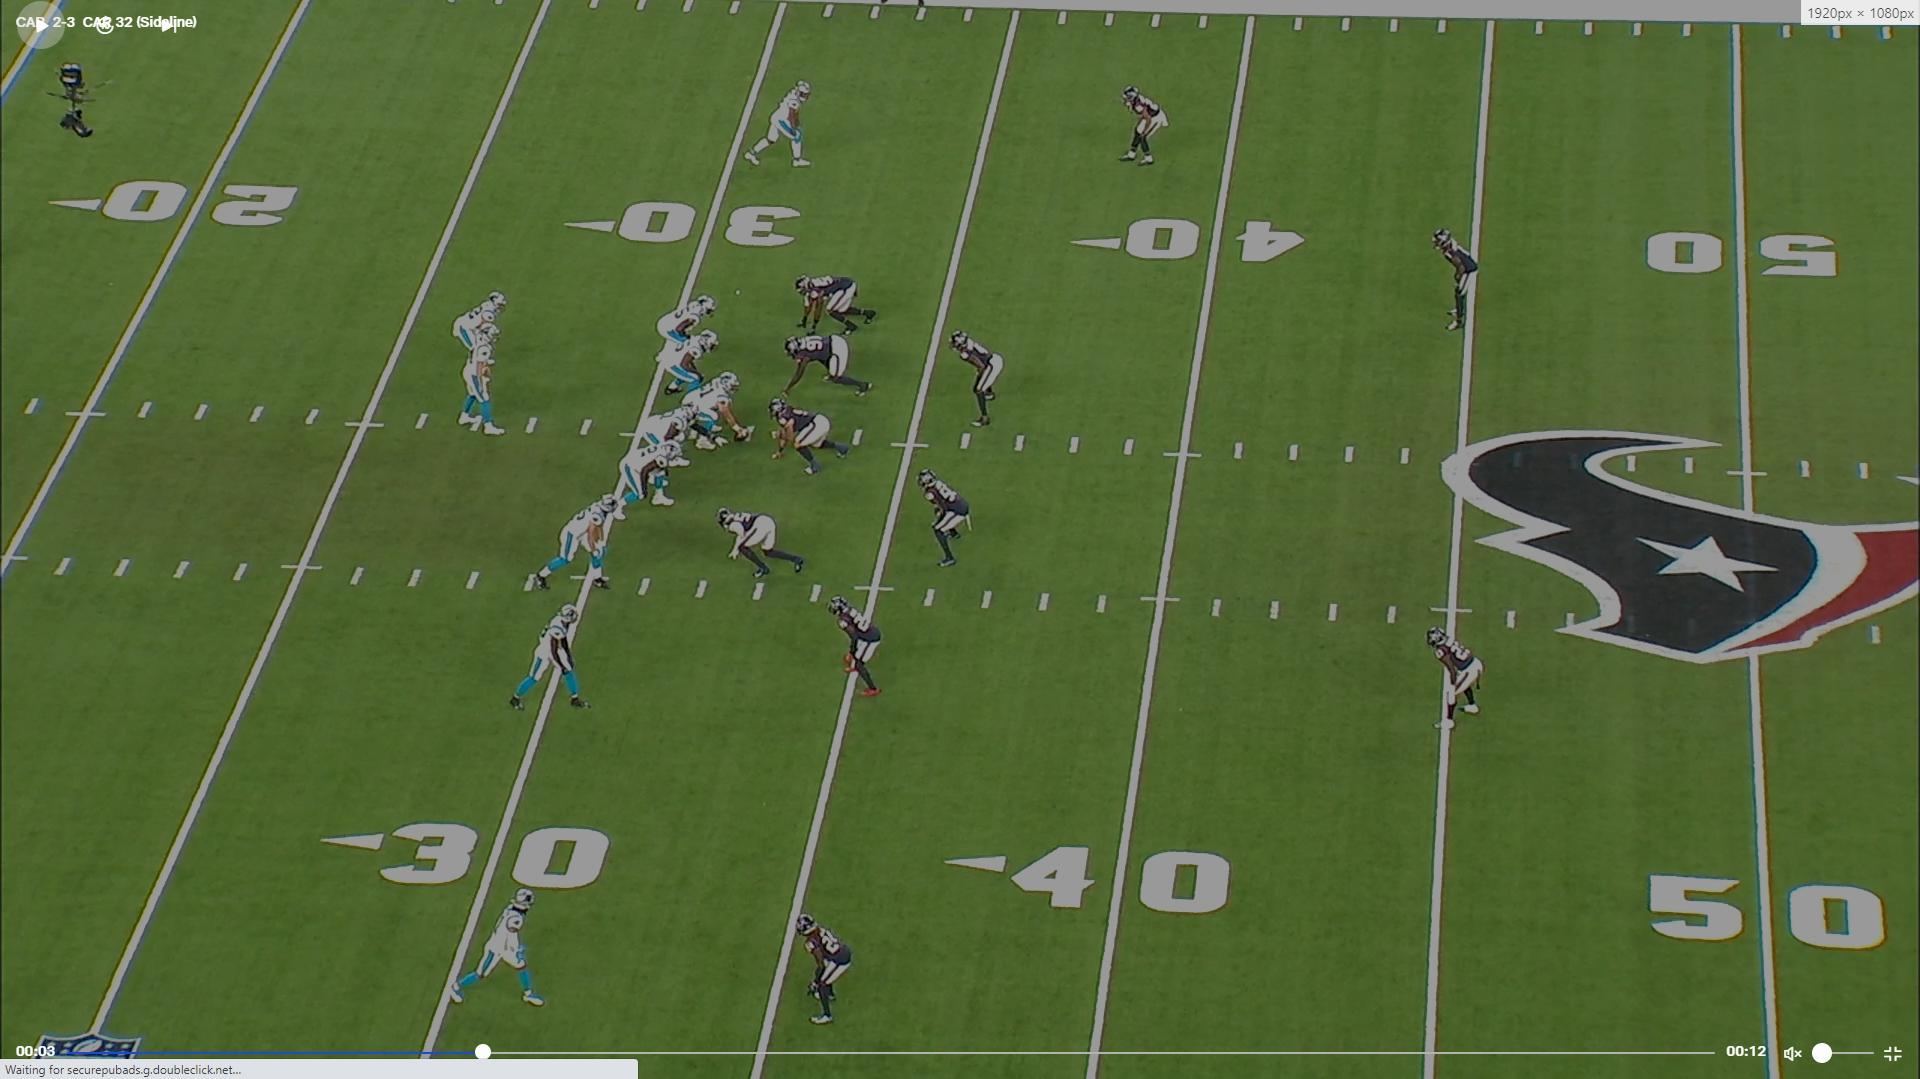player: (444, 881, 558, 1017), (503, 603, 593, 719), (523, 489, 623, 591), (794, 909, 859, 1028), (715, 504, 810, 583), (1428, 623, 1494, 734), (747, 76, 823, 171), (771, 397, 856, 479), (827, 592, 886, 703), (918, 466, 978, 571), (785, 331, 878, 398), (950, 328, 1008, 433), (454, 321, 505, 440), (675, 364, 746, 446), (1434, 225, 1484, 332), (796, 271, 878, 335), (615, 440, 682, 518), (453, 289, 508, 377), (1120, 82, 1173, 171), (658, 330, 721, 400), (634, 404, 699, 471), (655, 292, 718, 354)
